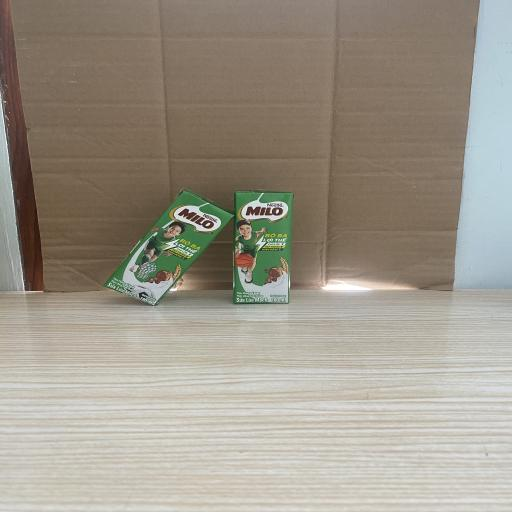milo: (104, 189, 234, 305), (233, 190, 293, 304)
